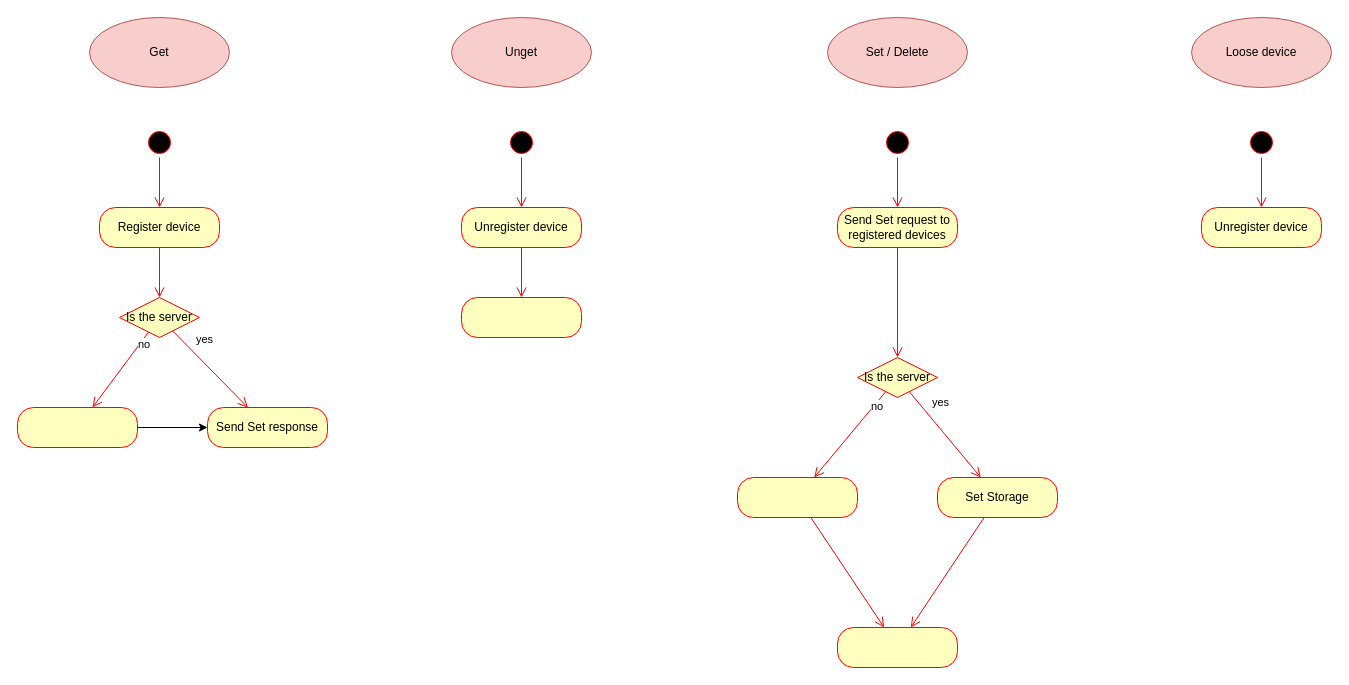
Image size: 1349x685. Some labels were removed from this diagram. The shapes that lost their labels are listed below. From the top down, each one's box as (x1, y1, x2, y2) in pixels, then its label:
(460, 296, 582, 338): Unget Data
(16, 406, 138, 448): Get Data
(736, 476, 858, 518): Set Cache
(836, 626, 958, 668): Call callbacks
